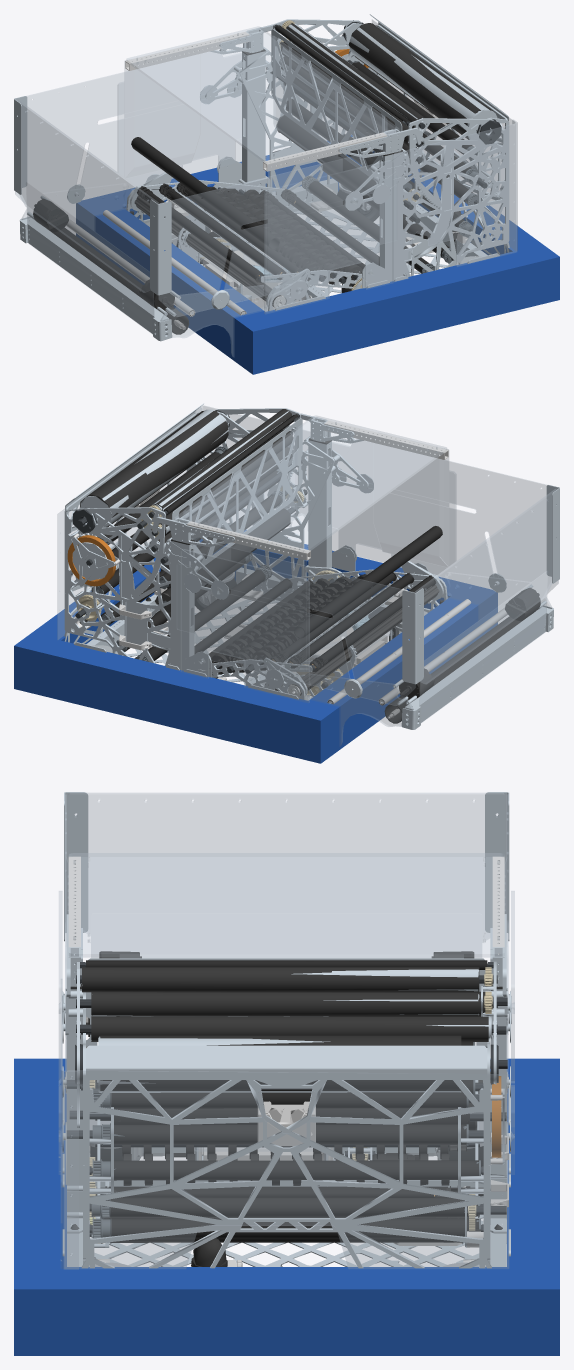
Rendered from robot.glb.
3 views of the same model, one above another, from view 1: azimuth 30°, elevation 25°; view 2: azimuth 150°, elevation 25°; view 3: azimuth 270°, elevation 25° (orthographic). The views are drawn at different scales.
Visible parts, largest first — view 1: hopper/CAD poly 0.66,0.76,0.87,0.2, chassis/CAD poly 0.66,0.76,0.87,0.2, chassis/bumper, climber/CAD poly 0.66,0.76,0.87,0.2, chassis/CAD alu 0.6239603757858276,0.7083757519721985,0.7835, chassis/CAD m0 0.6239603757858276,0.7083757519721985,0.78353, intake/CAD poly 0.66,0.76,0.87,0.2, shooter-drum/CAD not-alu 0.0423114113509655,0.04231141135096, intake/CAD alu 0.6239603757858276,0.7083757519721985,0.78353, hood/CAD alu 0.6239603757858276,0.7083757519721985,0.7835378, hopper/CAD m0 0.6239603757858276,0.7083757519721985,0.783537, climber/CAD alu 0.8227857351303101,0.8227857351303101,0.8227 (+30 smaller); view 2: hopper/CAD poly 0.66,0.76,0.87,0.2, chassis/bumper, climber/CAD poly 0.66,0.76,0.87,0.2, chassis/CAD poly 0.66,0.76,0.87,0.2, chassis/CAD alu 0.6239603757858276,0.7083757519721985,0.7835, chassis/CAD m0 0.6239603757858276,0.7083757519721985,0.78353, intake/CAD poly 0.66,0.76,0.87,0.2, shooter-drum/CAD not-alu 0.0423114113509655,0.04231141135096, intake/CAD alu 0.6239603757858276,0.7083757519721985,0.78353, hood/CAD alu 0.6239603757858276,0.7083757519721985,0.7835378, hopper/CAD m0 0.6239603757858276,0.7083757519721985,0.783537, climber/CAD alu 0.8227857351303101,0.8227857351303101,0.8227 (+32 smaller); view 3: chassis/CAD poly 0.66,0.76,0.87,0.2, chassis/bumper, hopper/CAD poly 0.66,0.76,0.87,0.2, climber/CAD poly 0.66,0.76,0.87,0.2, chassis/CAD m0 0.6239603757858276,0.7083757519721985,0.78353, intake/CAD poly 0.66,0.76,0.87,0.2, hood-roller-1/CAD not-alu 0.0423114113509655,0.0423114113509, hood-roller-2/CAD not-alu 0.0423114113509655,0.0423114113509, chassis/CAD alu 0.6239603757858276,0.7083757519721985,0.7835, hood-roller-0/CAD not-alu 0.0423114113509655,0.0423114113509, feeder-roller-11/CAD m31 0.027320891618728638,0.027320891618, feeder-roller-12/CAD alu 0.027320891618728638,0.027320891618 (+21 smaller).
Part boxes in pixels (box(x1,y1,x2,y2)): hopper/CAD poly 0.66,0.76,0.87,0.2: box(15, 52, 396, 316); chassis/CAD poly 0.66,0.76,0.87,0.2: box(117, 19, 517, 313); chassis/bumper: box(76, 135, 559, 374); climber/CAD poly 0.66,0.76,0.87,0.2: box(124, 26, 399, 222); chassis/CAD alu 0.6239603757858276,0.7083757519721985,0.7835: box(126, 23, 509, 310); chassis/CAD m0 0.6239603757858276,0.7083757519721985,0.78353: box(141, 14, 509, 299); intake/CAD poly 0.66,0.76,0.87,0.2: box(21, 182, 266, 356); shooter-drum/CAD not-alu 0.0423114113509655,0.04231141135096: box(348, 23, 492, 139); intake/CAD alu 0.6239603757858276,0.7083757519721985,0.78353: box(22, 218, 169, 335); hood/CAD alu 0.6239603757858276,0.7083757519721985,0.7835378: box(273, 19, 493, 209); hopper/CAD m0 0.6239603757858276,0.7083757519721985,0.783537: box(14, 96, 171, 295); climber/CAD alu 0.8227857351303101,0.8227857351303101,0.8227: box(125, 31, 386, 171); hopper/CAD poly 0.66,0.76,0.87,0.2: box(177, 441, 558, 705); chassis/bumper: box(14, 530, 497, 763); climber/CAD poly 0.66,0.76,0.87,0.2: box(174, 415, 448, 611); chassis/CAD poly 0.66,0.76,0.87,0.2: box(57, 405, 456, 702); chassis/CAD alu 0.6239603757858276,0.7083757519721985,0.7835: box(64, 409, 447, 699); chassis/CAD m0 0.6239603757858276,0.7083757519721985,0.78353: box(64, 403, 432, 688); intake/CAD poly 0.66,0.76,0.87,0.2: box(307, 571, 552, 745); shooter-drum/CAD not-alu 0.0423114113509655,0.04231141135096: box(80, 411, 228, 527); intake/CAD alu 0.6239603757858276,0.7083757519721985,0.78353: box(404, 606, 550, 723); hood/CAD alu 0.6239603757858276,0.7083757519721985,0.7835378: box(77, 408, 300, 598); hopper/CAD m0 0.6239603757858276,0.7083757519721985,0.783537: box(402, 485, 559, 684); climber/CAD alu 0.8227857351303101,0.8227857351303101,0.8227: box(187, 420, 448, 560); chassis/CAD poly 0.66,0.76,0.87,0.2: box(58, 891, 514, 1269); chassis/bumper: box(14, 1058, 559, 1355); hopper/CAD poly 0.66,0.76,0.87,0.2: box(65, 793, 508, 1135); climber/CAD poly 0.66,0.76,0.87,0.2: box(66, 853, 507, 1073); chassis/CAD m0 0.6239603757858276,0.7083757519721985,0.78353: box(62, 958, 510, 1268); intake/CAD poly 0.66,0.76,0.87,0.2: box(91, 914, 481, 957); hood-roller-1/CAD not-alu 0.0423114113509655,0.0423114113509: box(91, 991, 488, 1016); hood-roller-2/CAD not-alu 0.0423114113509655,0.0423114113509: box(82, 967, 479, 992); chassis/CAD alu 0.6239603757858276,0.7083757519721985,0.7835: box(62, 992, 510, 1266); hood-roller-0/CAD not-alu 0.0423114113509655,0.0423114113509: box(91, 1017, 488, 1041); feeder-roller-11/CAD m31 0.027320891618728638,0.027320891618: box(114, 1160, 478, 1180); feeder-roller-12/CAD alu 0.027320891618728638,0.027320891618: box(114, 1124, 466, 1144).
Bounding box in the file's own units: 1.07 × 0.5562 × 0.8509.
